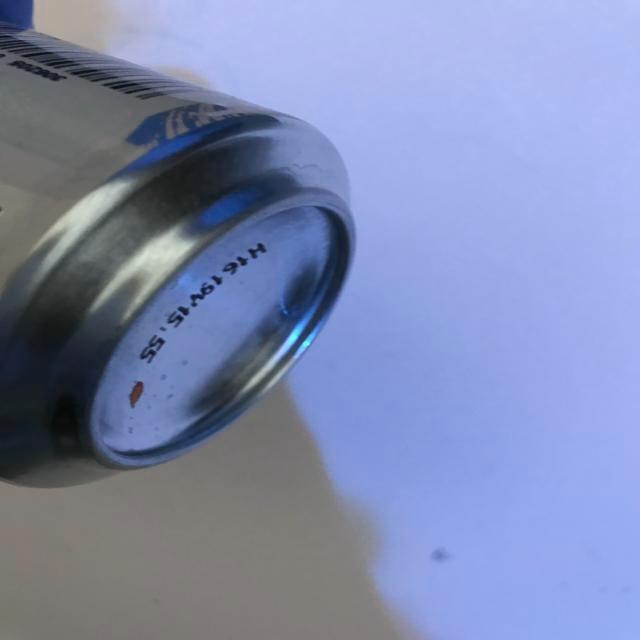metal: (0, 2, 386, 502)
